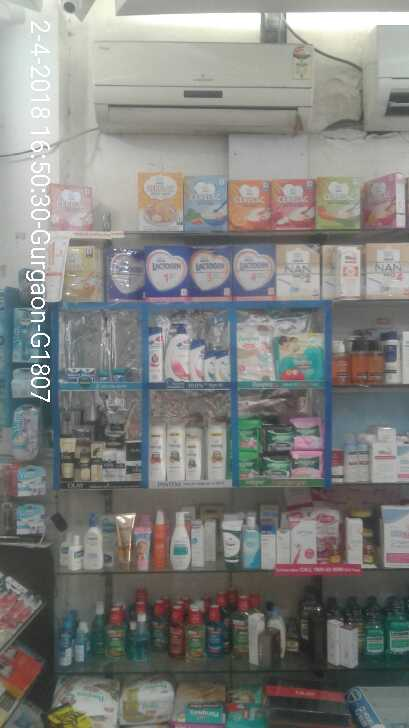vicks: (66, 363, 131, 383)
